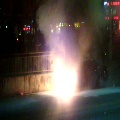fire: (50, 56, 76, 101)
